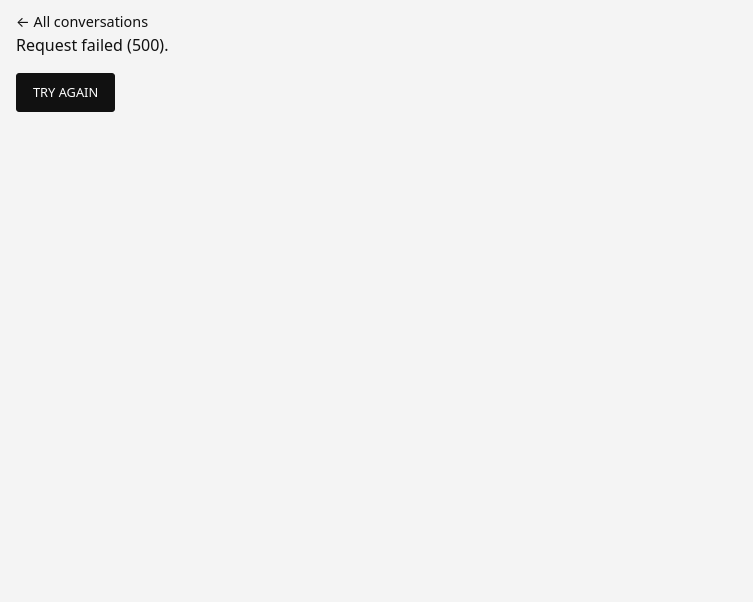
Scenario: conversation page › loads the conversation again after Try again
Click the button "Try again": click(66, 92) [16, 73, 115, 112]
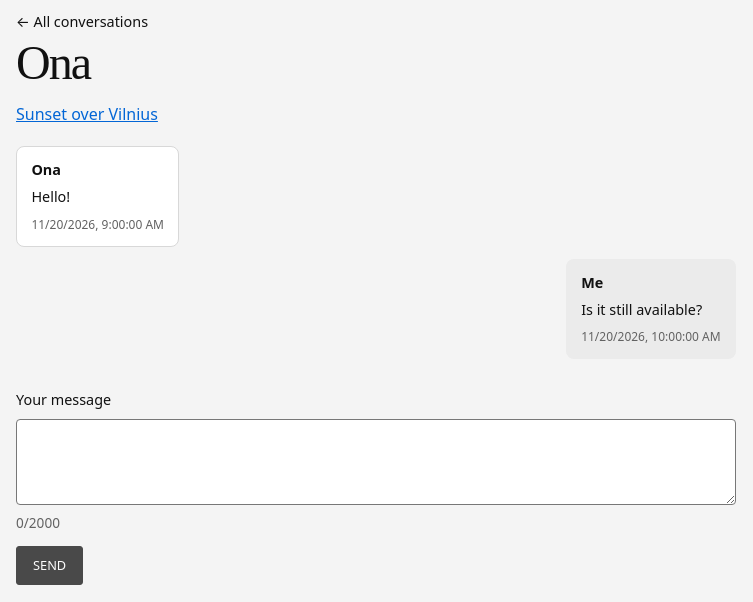
Expected: the text "Hello!" is shown, [31, 187, 70, 206]
Expected: the message "Request failed (500). Try again" is gone
